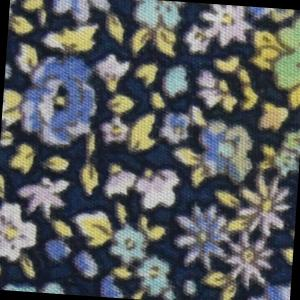Stain: (208, 5, 300, 178)
